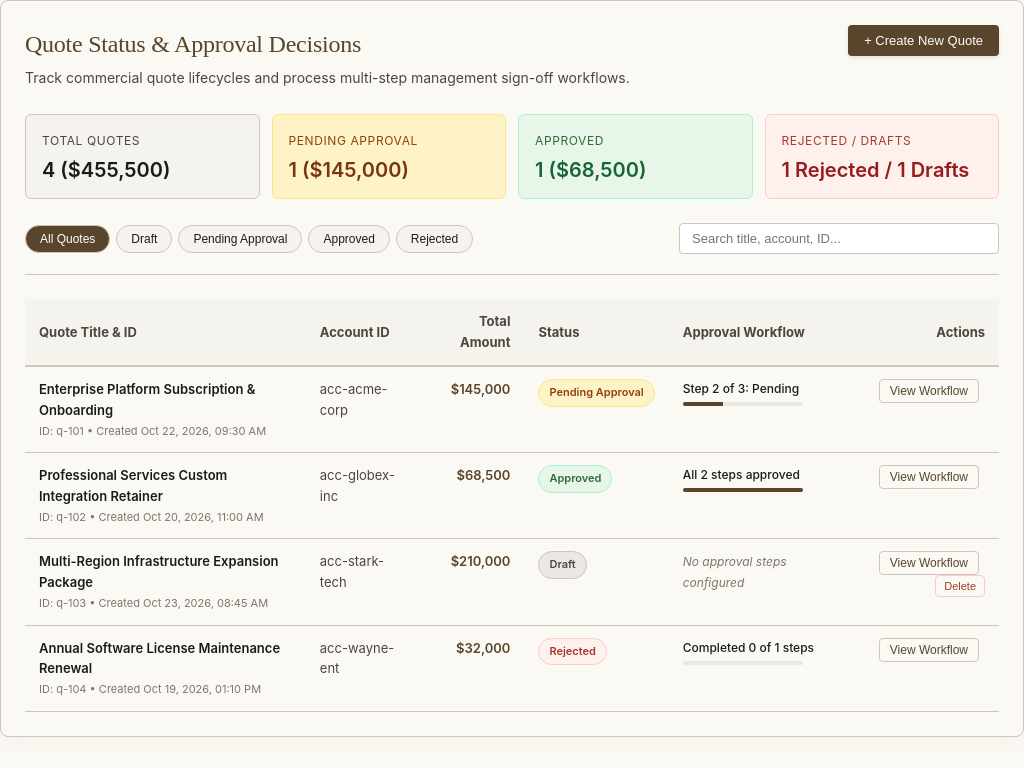
Test: QuoteApprovalTable Component & Helper Utilities › Filtering and Searching › filters quote rows by search query input
The image size is (1024, 768).
Type "stark-tech" into the field with test id "quote-approval-table-search-input" at (839, 239), box [679, 223, 999, 254]
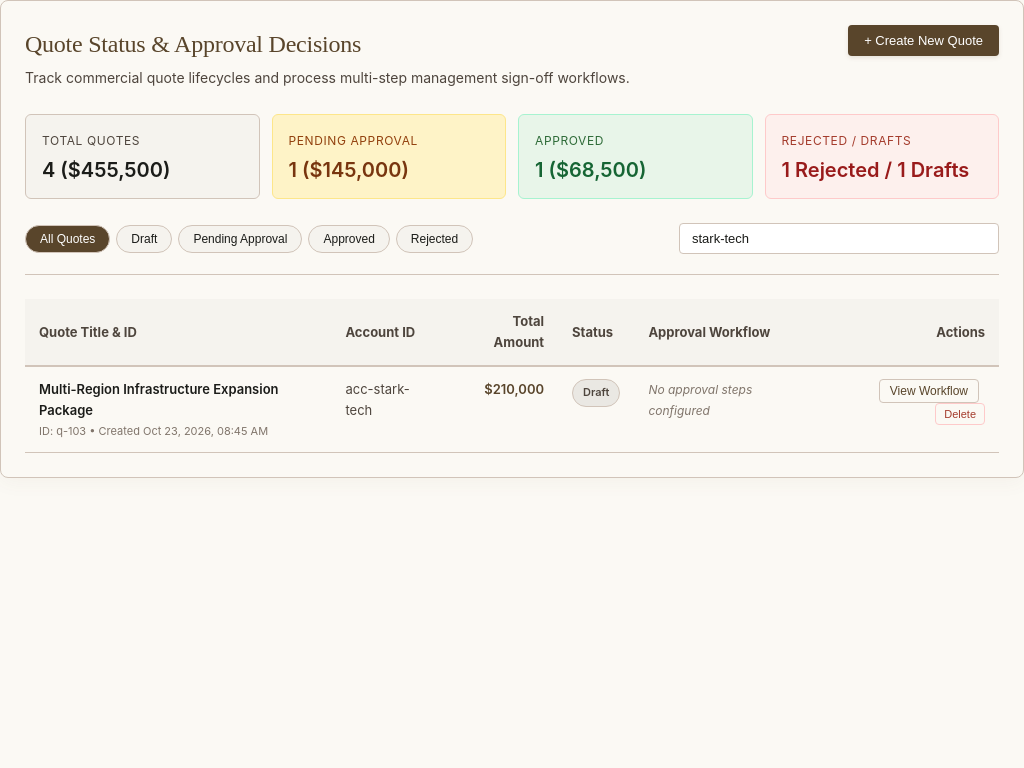
Check: the row with test id "quote-approval-table-row-q-103" is shown, box [25, 366, 999, 453]
Check: the row with test id "quote-approval-table-row-q-101" is gone
